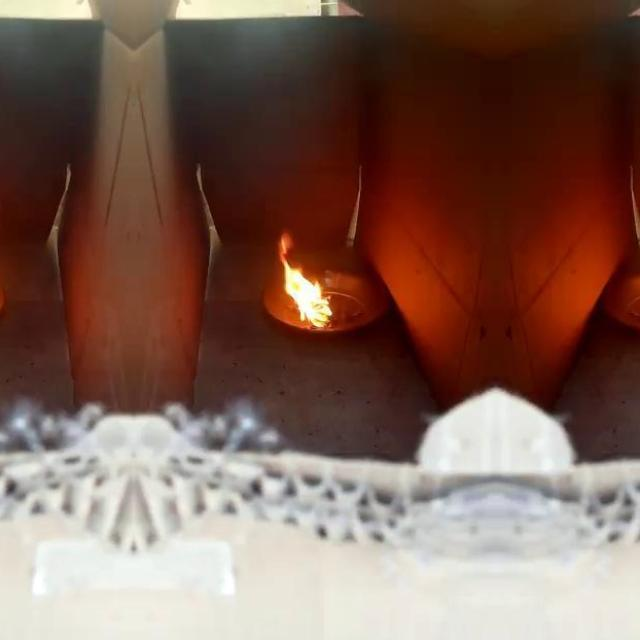smoke: (279, 254, 336, 328)
